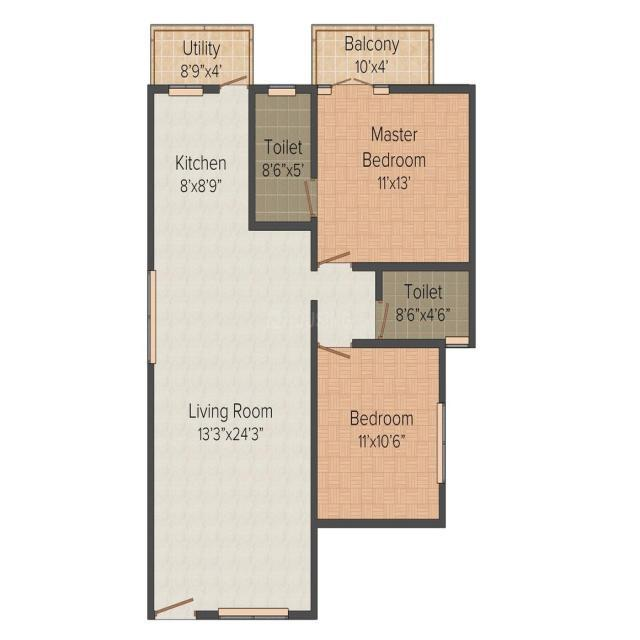Balcony-Sitout: (316, 28, 430, 83)
Bedroom: (315, 344, 440, 522)
Bedroom with Toilet: (252, 89, 471, 264)
Enterance-Foyer: (153, 589, 197, 617)
Kitchen: (152, 91, 250, 231)
Living: (154, 222, 312, 611)
Toilet: (256, 94, 312, 222), (376, 272, 469, 339)
Utility: (154, 30, 249, 85)
